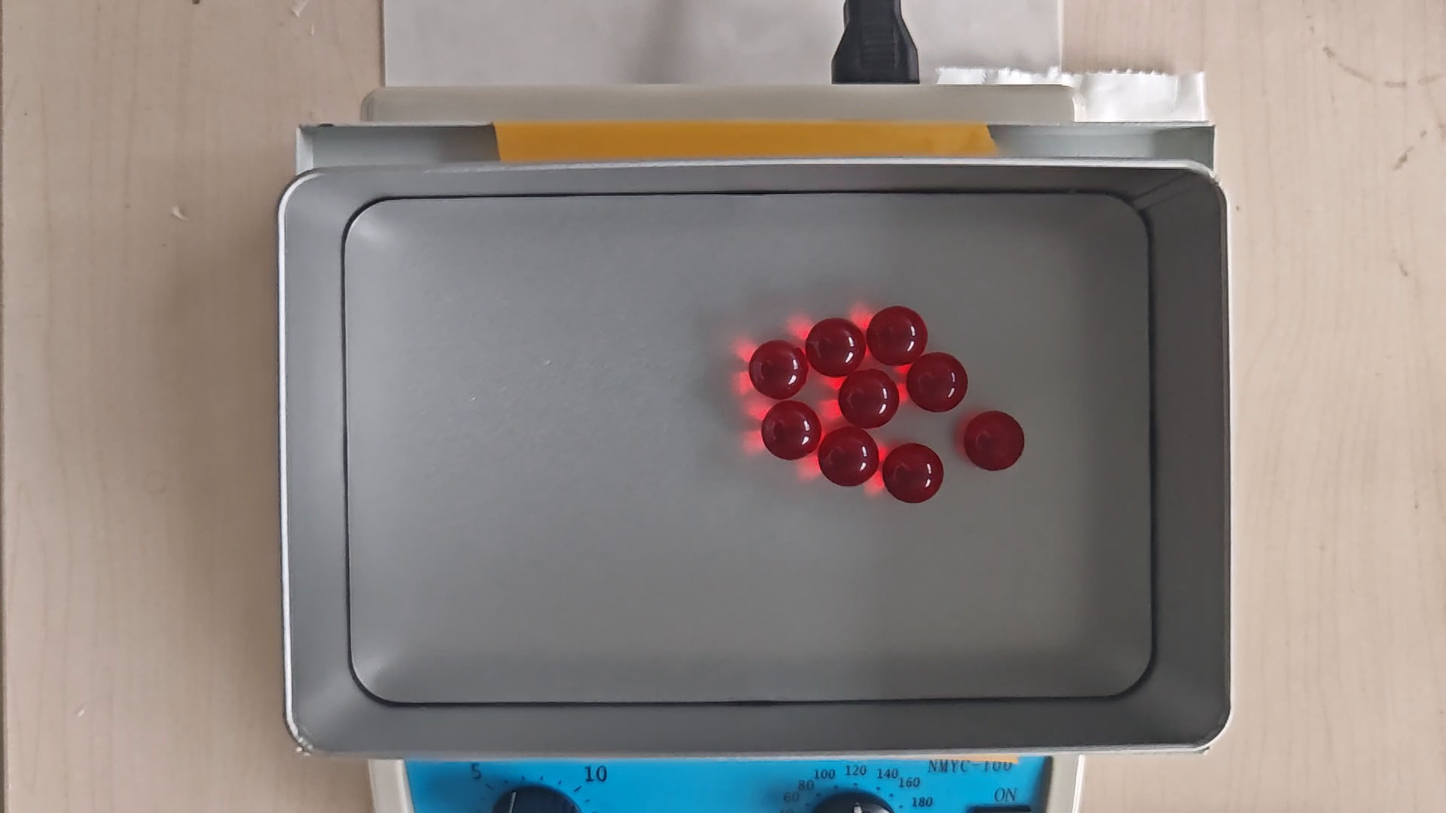ball: (963, 410, 1025, 472), (883, 442, 944, 505), (907, 352, 968, 413), (819, 427, 880, 488), (749, 339, 809, 400), (761, 400, 820, 461), (806, 317, 865, 377), (839, 370, 899, 429), (868, 306, 926, 366)
container: (345, 192, 1152, 703)
